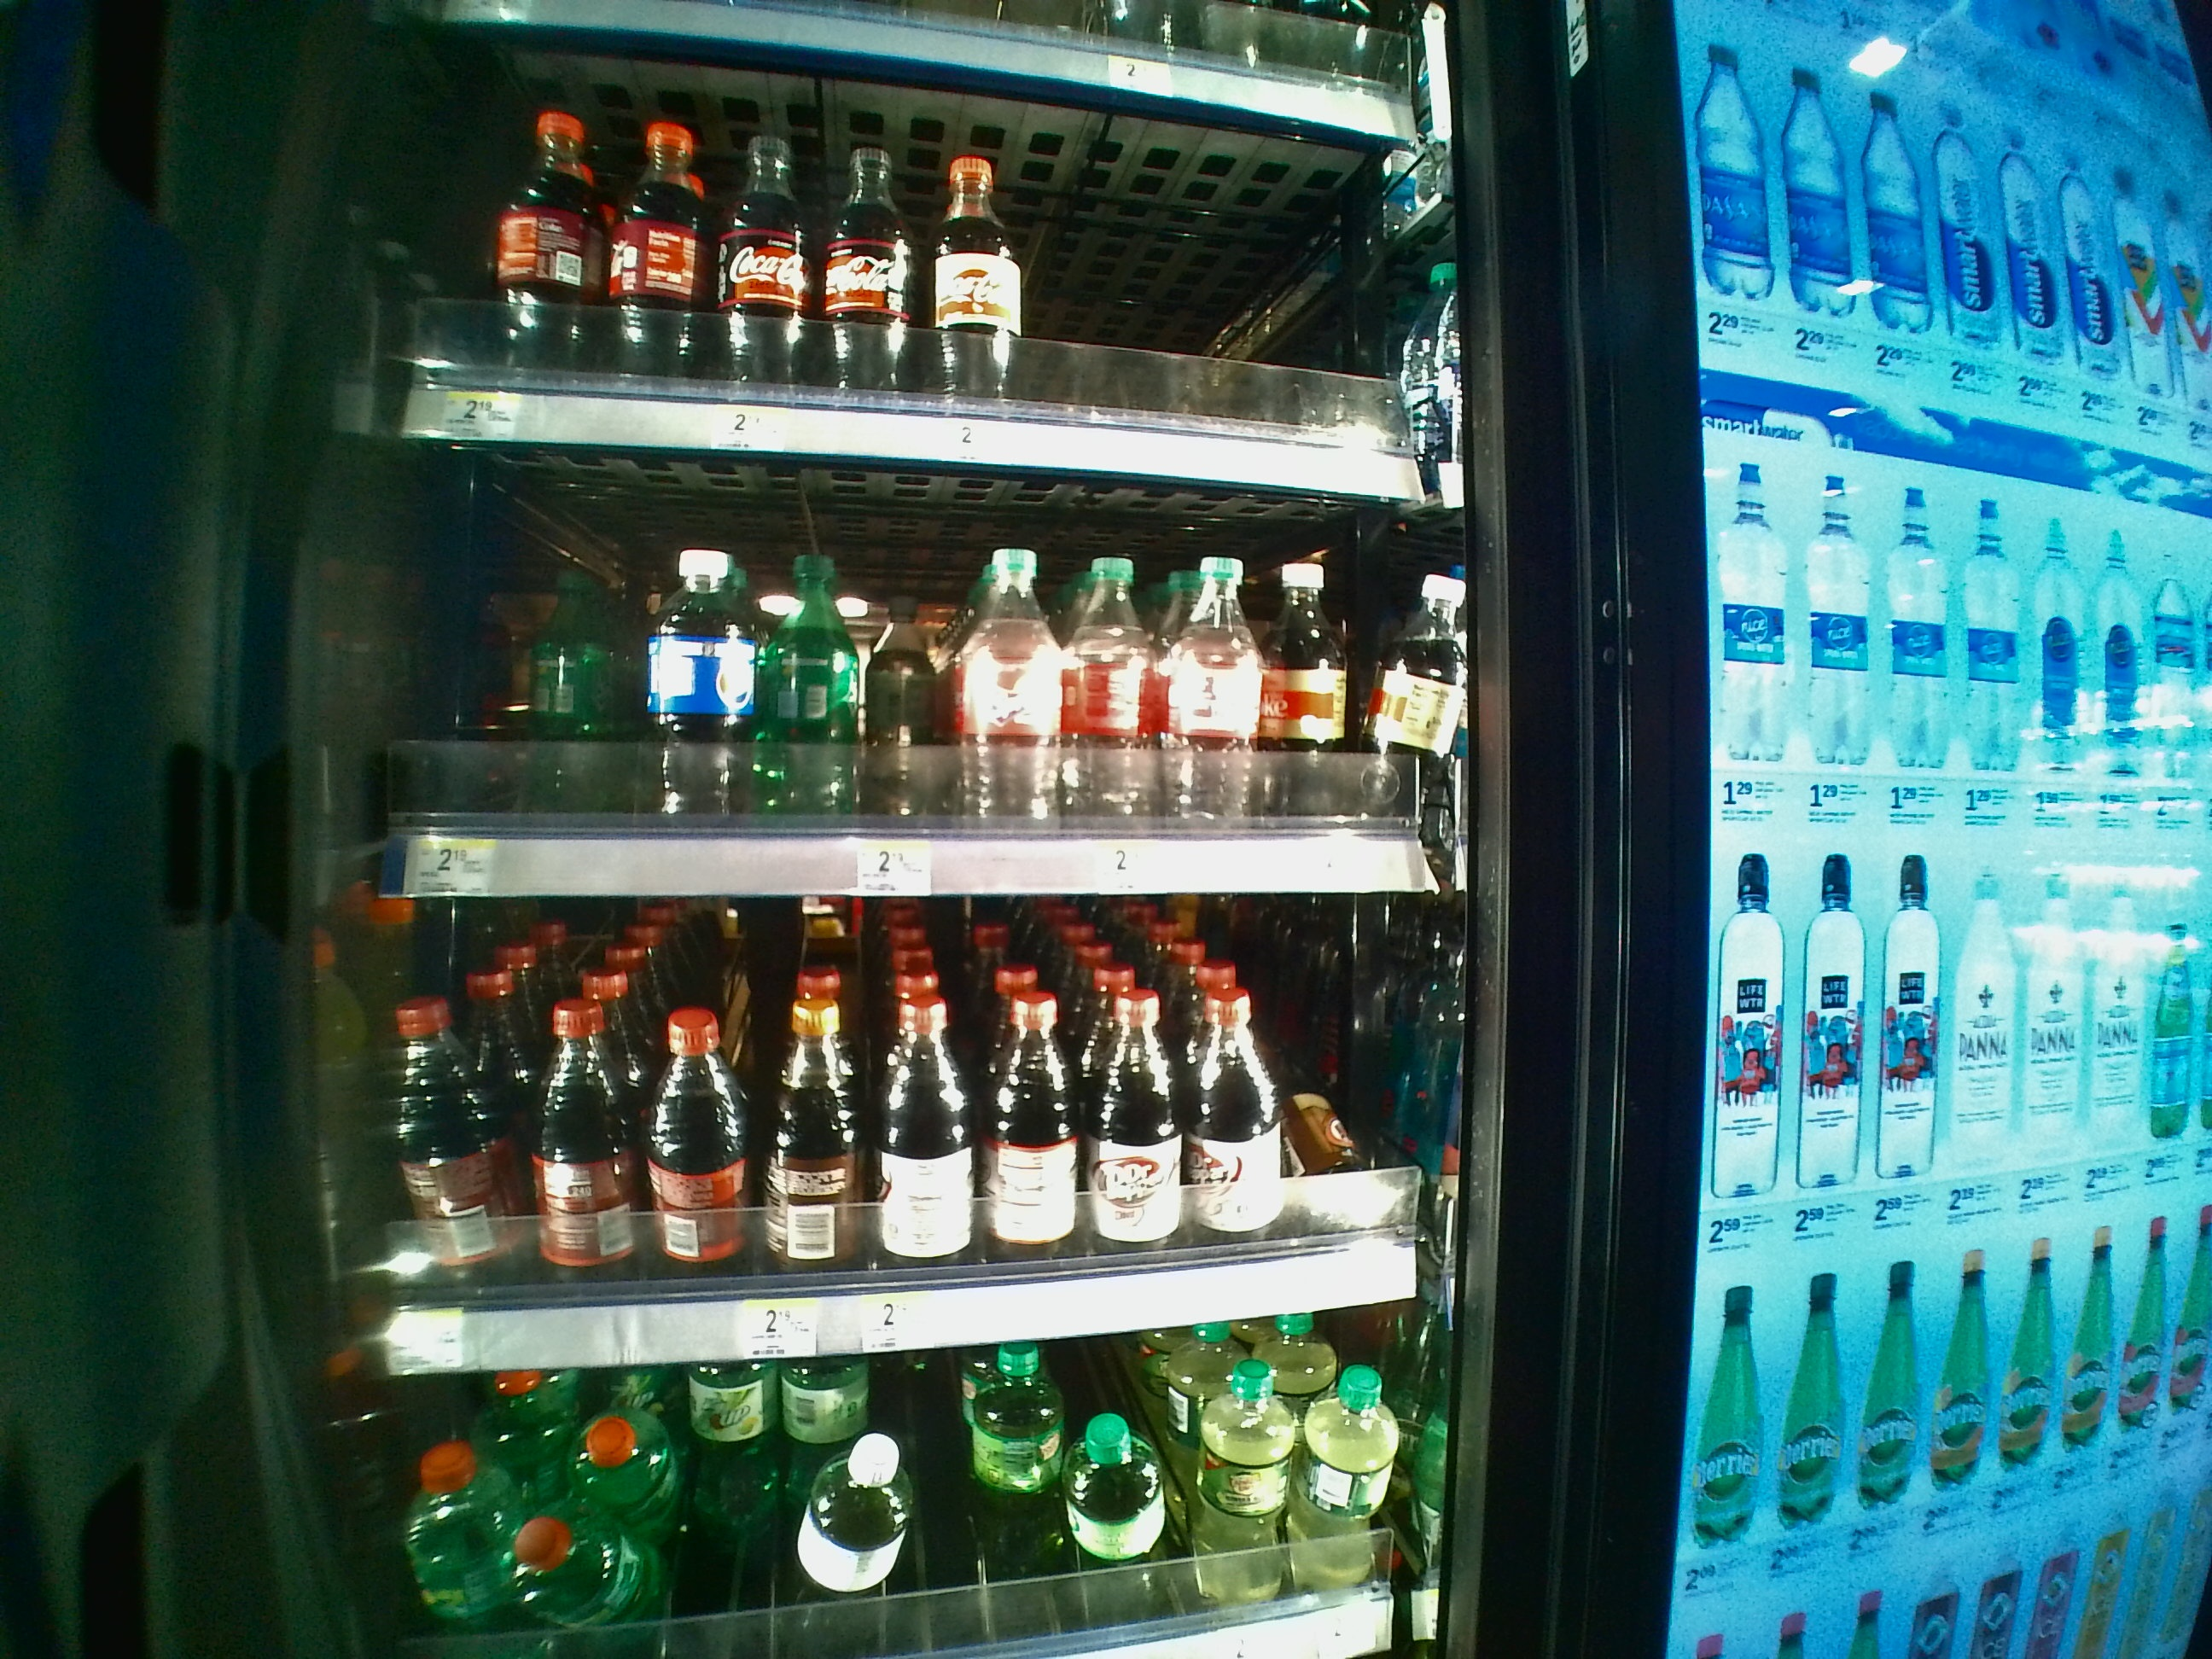shelf: (374, 908, 1470, 1377), (374, 455, 1468, 899)
